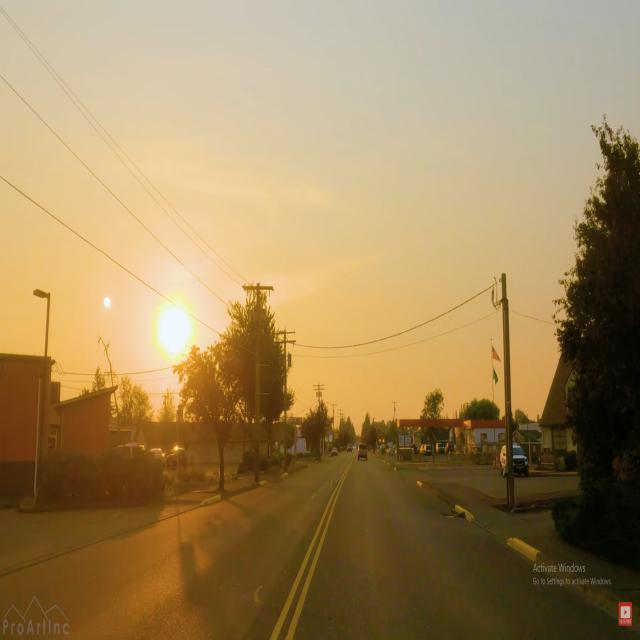sun: (146, 284, 203, 376)
